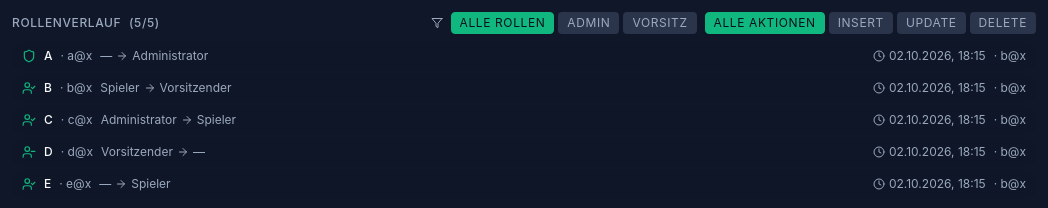
Test: ClubRoleHistory – Rollenfilter › kombiniert Action- und Rollenfilter korrekt
Expected: the text "(5/5)" is shown, [129,15,160,30]
Click the button "Admin" at (589, 23), box [558,12,619,34]
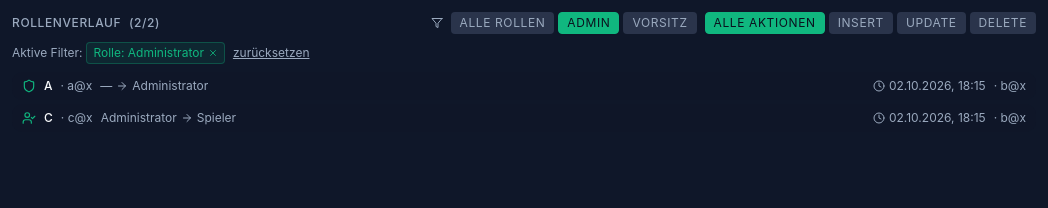
Click the button "Update" at (931, 23), box [897,12,966,34]
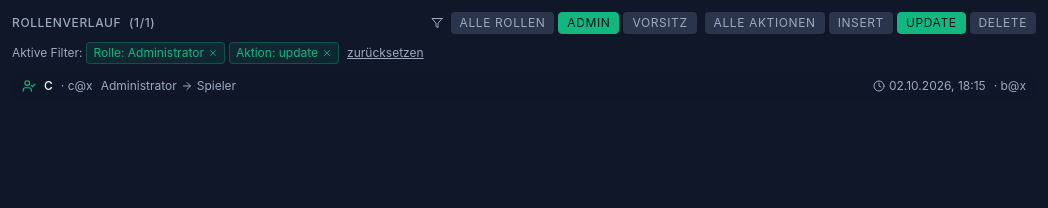
Expected: the text "(1/1)" is shown, [129,15,155,30]
